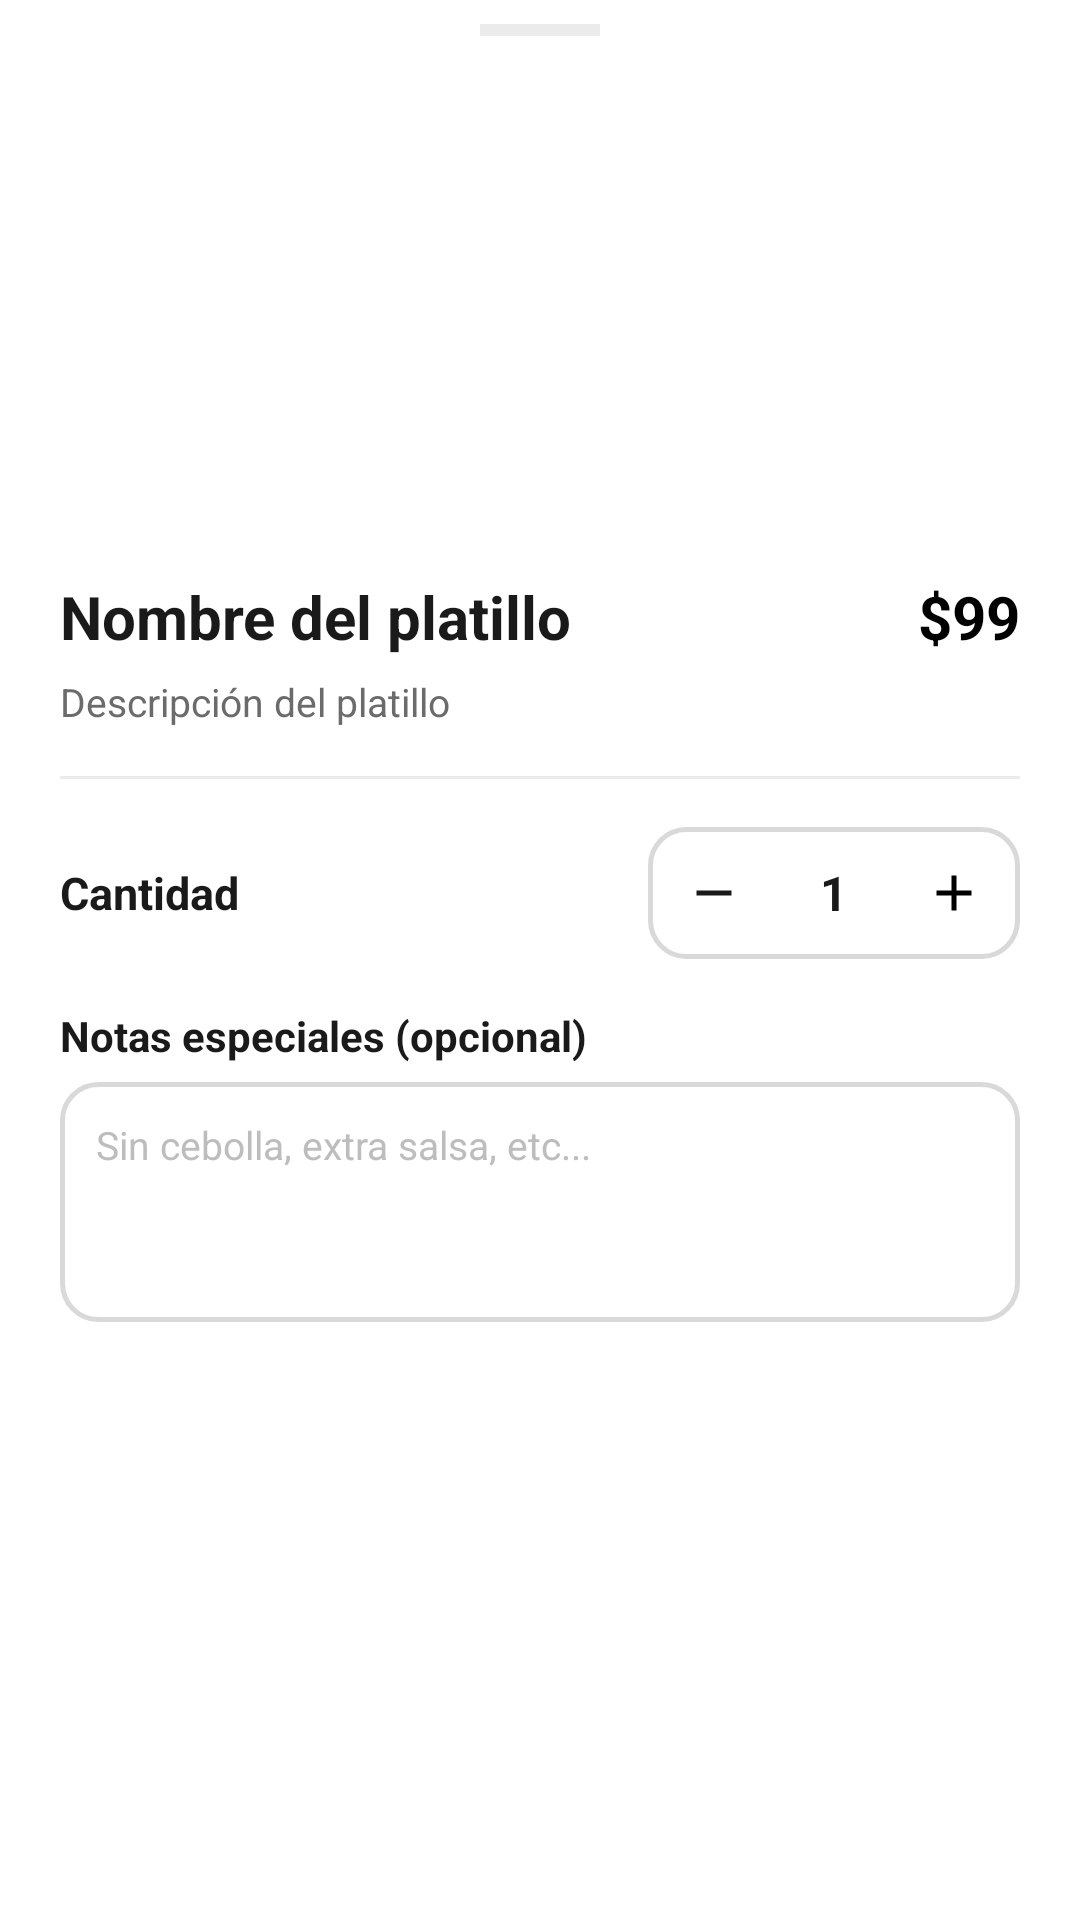

Named icons in this screenshot (1080px x 1920px) and their bounding boxes, (x1, y1, x2, y2):
Menos: (648, 827, 780, 959)
Más: (888, 827, 1020, 959)
